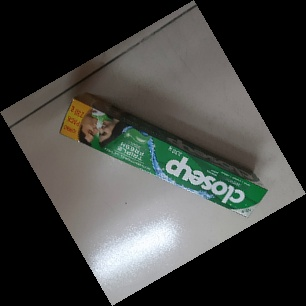CloseUp Xanh: (59, 94, 268, 219)
